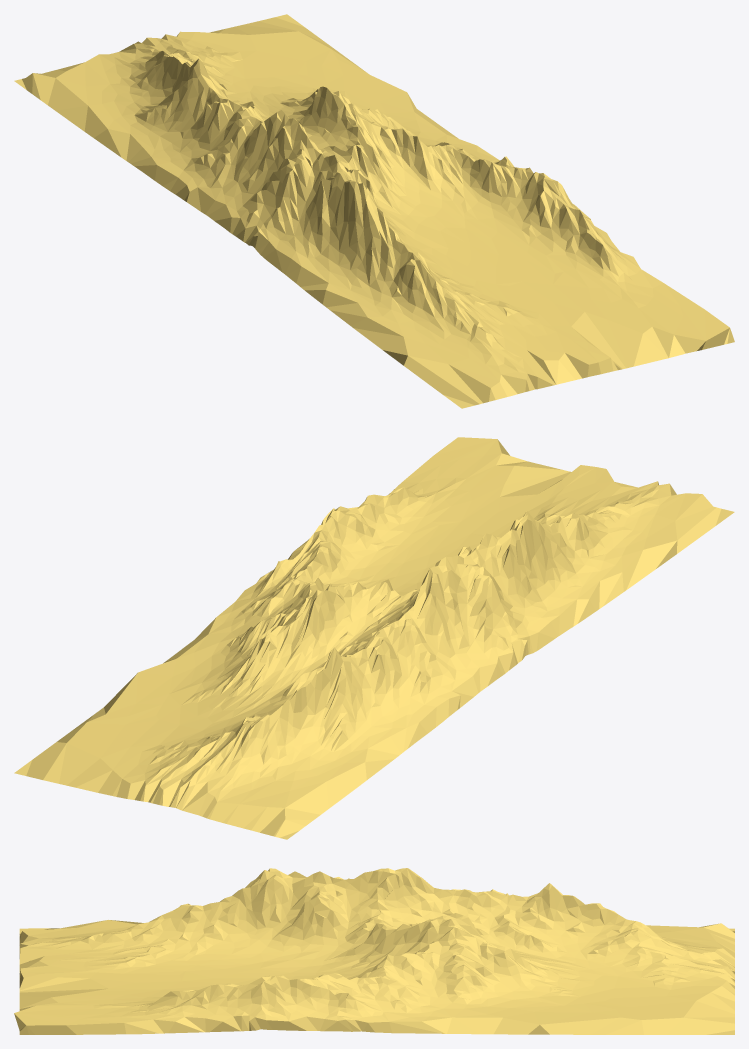
The model's file is Desert.glb.
3 renders of one model, top to bottom at view 1: azimuth 30°, elevation 25°; view 2: azimuth 150°, elevation 25°; view 3: azimuth 270°, elevation 25°, orthographic. The views are drawn at different scales.
Parts seen in each view (by area): view 1: Plane; view 2: Plane; view 3: Plane.
Boxes of the visible parts, x1,y1,x2,y2 form: Plane: (14, 14, 734, 408); Plane: (14, 437, 734, 839); Plane: (14, 868, 734, 1034).
Size of the model in its own units: 5.6 by 2.08 by 16.02.
